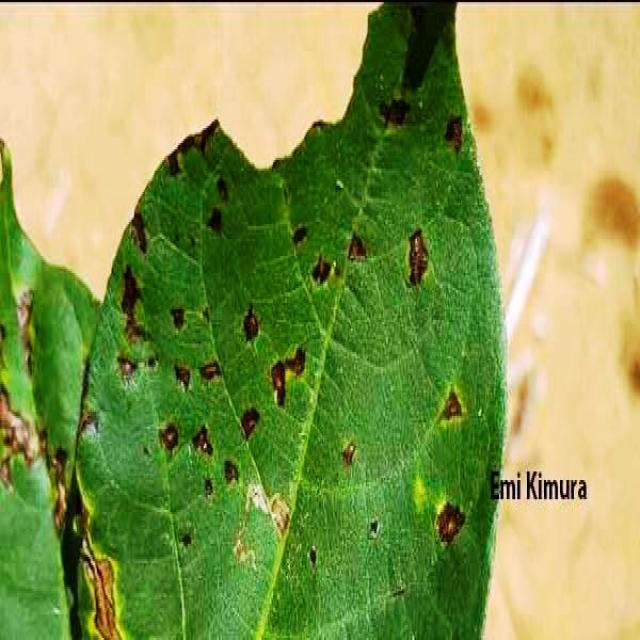Bacterial Blight: (3, 274, 248, 610)
